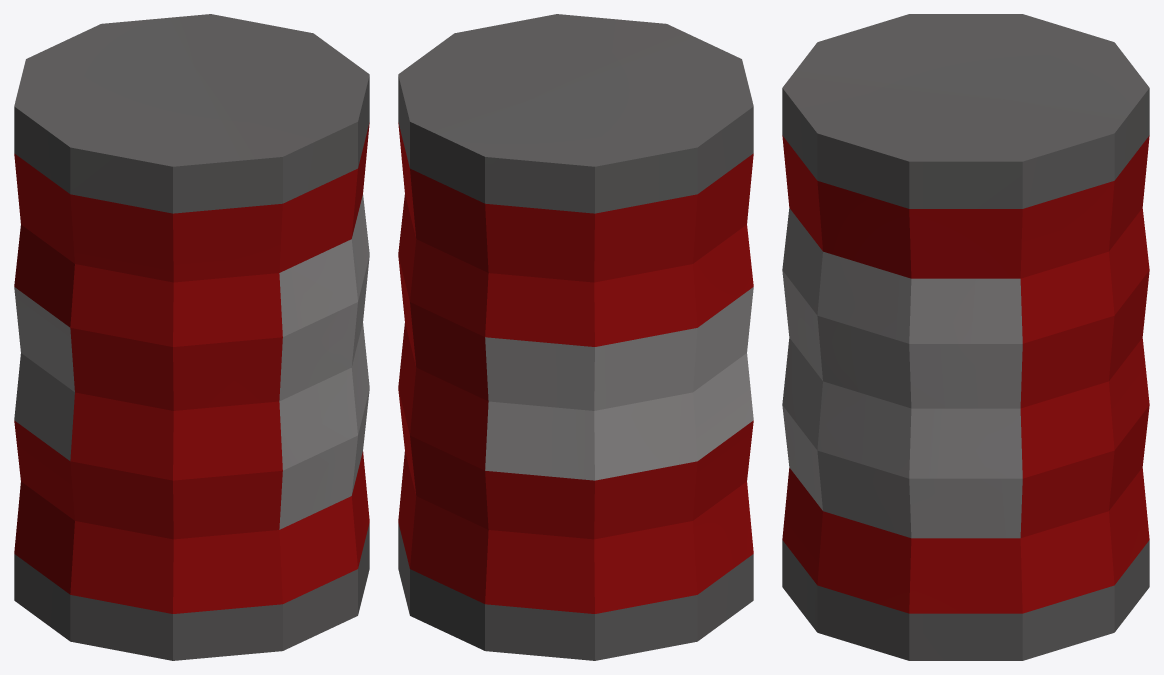
The model's file is Foodcan.fbx.
The picture shows the model from 3 angles, left to right: view 1: azimuth 30°, elevation 25°; view 2: azimuth 150°, elevation 25°; view 3: azimuth 270°, elevation 25°; orthographic projection.
Visible parts, largest first — view 1: Foodcan; view 2: Foodcan; view 3: Foodcan.
Boxes of the visible parts, left/top/right/bottom form: Foodcan: left=14, top=14, right=369, bottom=660; Foodcan: left=398, top=14, right=753, bottom=660; Foodcan: left=782, top=14, right=1149, bottom=660.
Size of the model in its own units: 8.01 by 12.63 by 8.42.
Materials: 1 (1 with a texture image).
